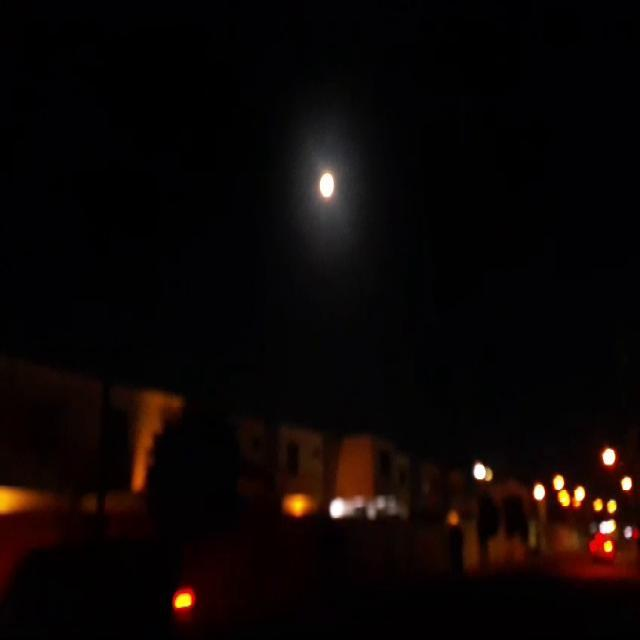moon: (316, 171, 336, 205)
